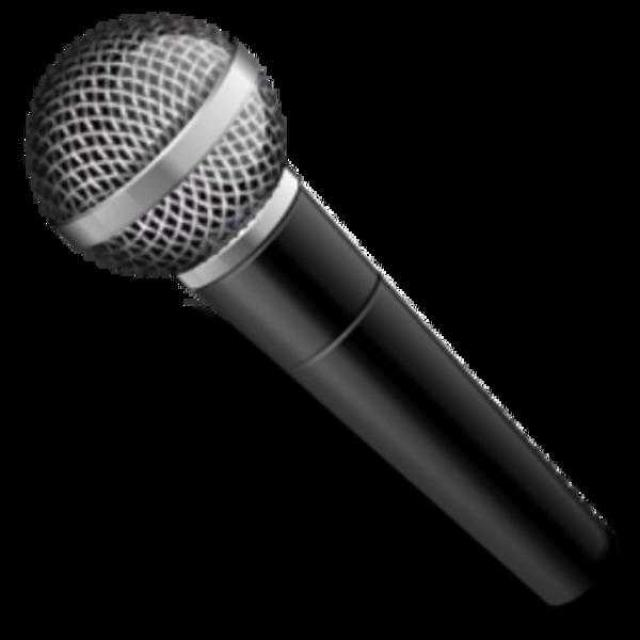microphone: (31, 15, 600, 600)
